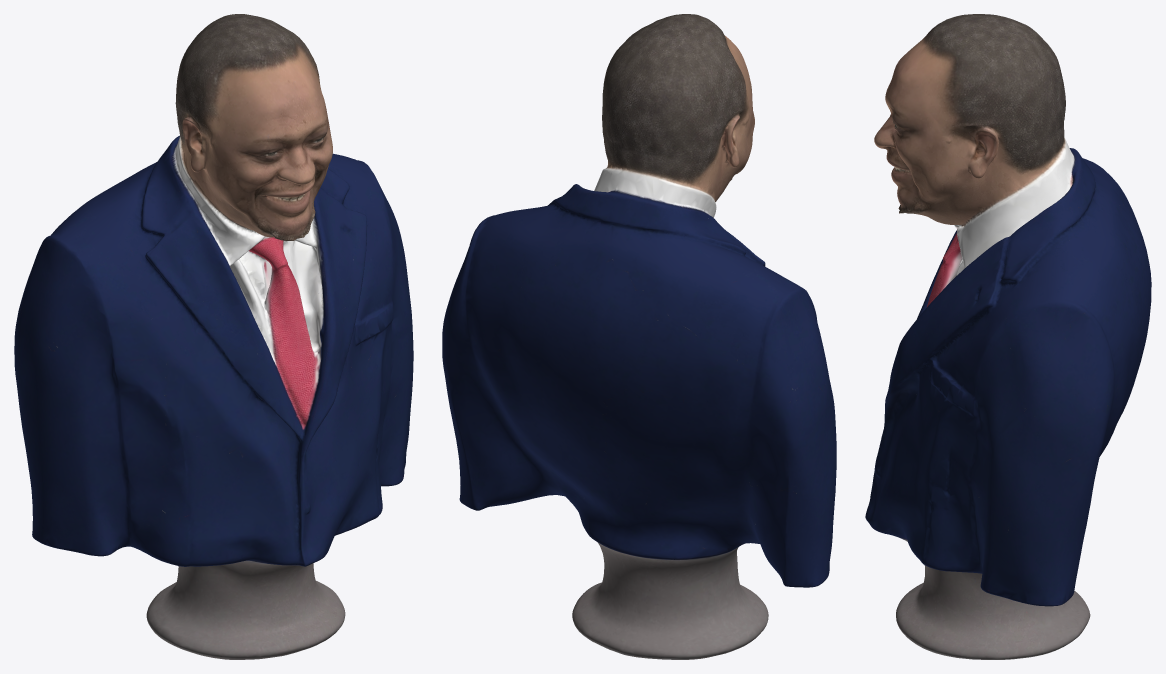
3 views of the same model, side by side, from view 1: azimuth 30°, elevation 25°; view 2: azimuth 150°, elevation 25°; view 3: azimuth 270°, elevation 25° (orthographic).
Bounding box in the file's own units: 1.21 × 1.9 × 0.8151.
Materials: 1 (1 with a texture image).
